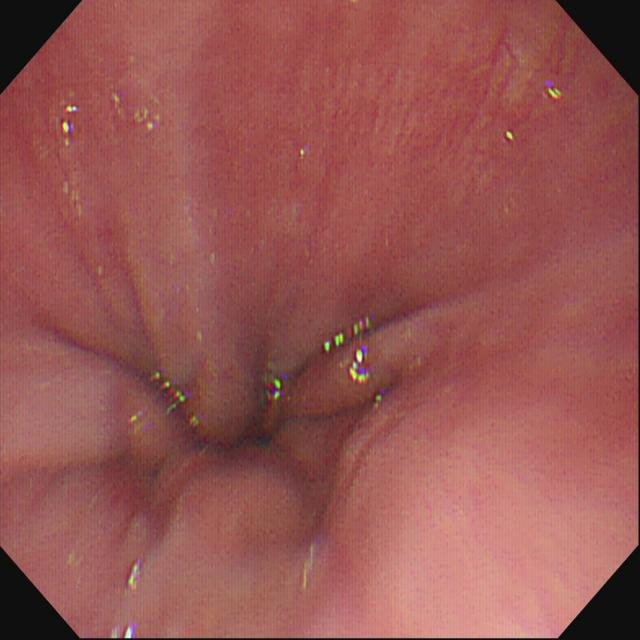U: (324, 318, 373, 356), (348, 348, 375, 385)
